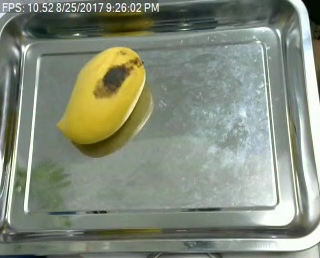Mango: (55, 43, 148, 145)
